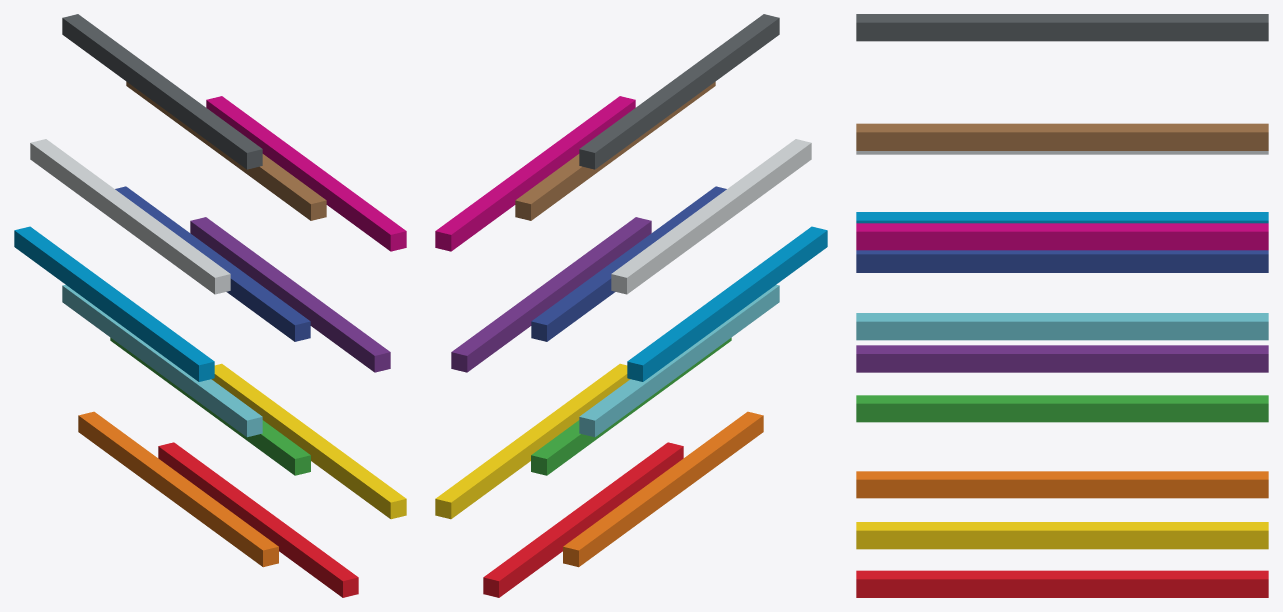
File: tinker.obj
3 renders of one model, left to right at view 1: azimuth 30°, elevation 25°; view 2: azimuth 150°, elevation 25°; view 3: azimuth 270°, elevation 25°, orthographic. The views are drawn at different scales.
Visible parts, largest first — view 1: group_0_14541540, group_0_16089887, group_0_40919, group_0_6383467, group_0_8273816, group_0_15277358, group_0_14093196, group_0_16768282, group_0_7720667, group_0_3888547, group_0_11107152, group_0_4634441; view 2: group_0_14541540, group_0_16089887, group_0_40919, group_0_6383467, group_0_8273816, group_0_15277358, group_0_14093196, group_0_16768282, group_0_7720667, group_0_3888547, group_0_11107152, group_0_4634441; view 3: group_0_4634441, group_0_6383467, group_0_7720667, group_0_8273816, group_0_11107152, group_0_14093196, group_0_15277358, group_0_16089887, group_0_16768282, group_0_3888547, group_0_40919, group_0_14541540.
Part boxes in pixels (x1,y1,x2,y2): group_0_14541540: [30, 139, 230, 294]; group_0_16089887: [78, 411, 278, 567]; group_0_40919: [14, 226, 214, 381]; group_0_6383467: [62, 14, 262, 169]; group_0_8273816: [190, 217, 390, 372]; group_0_15277358: [158, 442, 358, 597]; group_0_14093196: [206, 96, 406, 251]; group_0_16768282: [211, 363, 406, 519]; group_0_7720667: [62, 284, 262, 437]; group_0_3888547: [115, 186, 310, 341]; group_0_11107152: [126, 81, 326, 220]; group_0_4634441: [110, 337, 310, 475]; group_0_14541540: [611, 139, 811, 294]; group_0_16089887: [563, 411, 763, 567]; group_0_40919: [627, 226, 827, 381]; group_0_6383467: [579, 14, 779, 169]; group_0_8273816: [451, 217, 651, 372]; group_0_15277358: [483, 442, 683, 597]; group_0_14093196: [435, 96, 635, 251]; group_0_16768282: [435, 363, 630, 519]; group_0_7720667: [579, 284, 779, 437]; group_0_3888547: [531, 186, 726, 341]; group_0_11107152: [515, 81, 715, 220]; group_0_4634441: [531, 337, 731, 475]; group_0_4634441: [856, 395, 1268, 422]; group_0_6383467: [856, 14, 1268, 41]; group_0_7720667: [856, 313, 1268, 340]; group_0_8273816: [856, 345, 1268, 372]; group_0_11107152: [856, 123, 1268, 150]; group_0_14093196: [856, 223, 1268, 250]; group_0_15277358: [856, 570, 1268, 597]; group_0_16089887: [856, 471, 1268, 498]; group_0_16768282: [856, 522, 1268, 549]; group_0_3888547: [856, 250, 1268, 272]; group_0_40919: [856, 212, 1268, 223]; group_0_14541540: [856, 151, 1268, 154].
Size of the model in its own units: 12.99 by 28 by 20.
